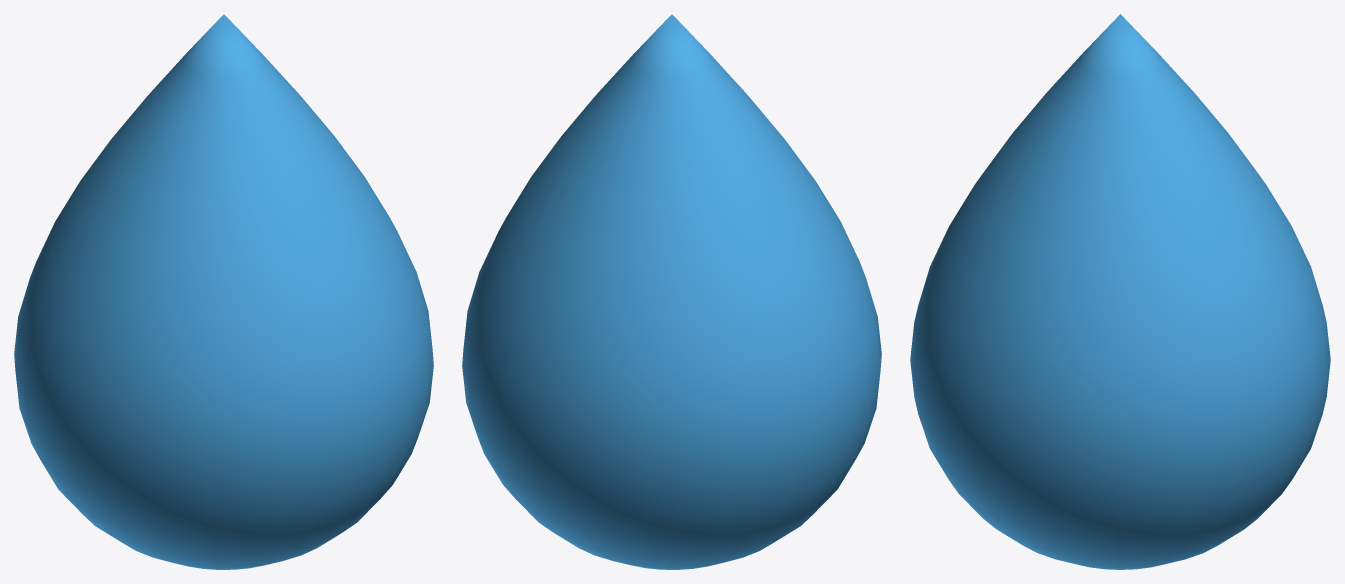
Rendered from drop.fbx.
The picture shows the model from 3 angles, left to right: view 1: azimuth 30°, elevation 25°; view 2: azimuth 150°, elevation 25°; view 3: azimuth 270°, elevation 25°; orthographic projection.
Parts seen in each view (by area): view 1: drop; view 2: drop; view 3: drop.
Part boxes in pixels (x1,y1,x2,y2): drop: (14, 14, 433, 569); drop: (462, 14, 881, 569); drop: (910, 14, 1330, 569).
Bounding box in the file's own units: 200 × 282 × 200.
